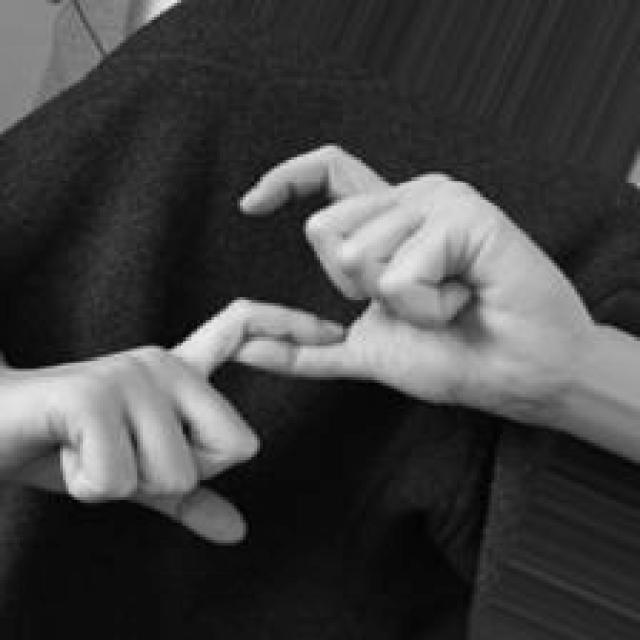S: (3, 134, 640, 552)
